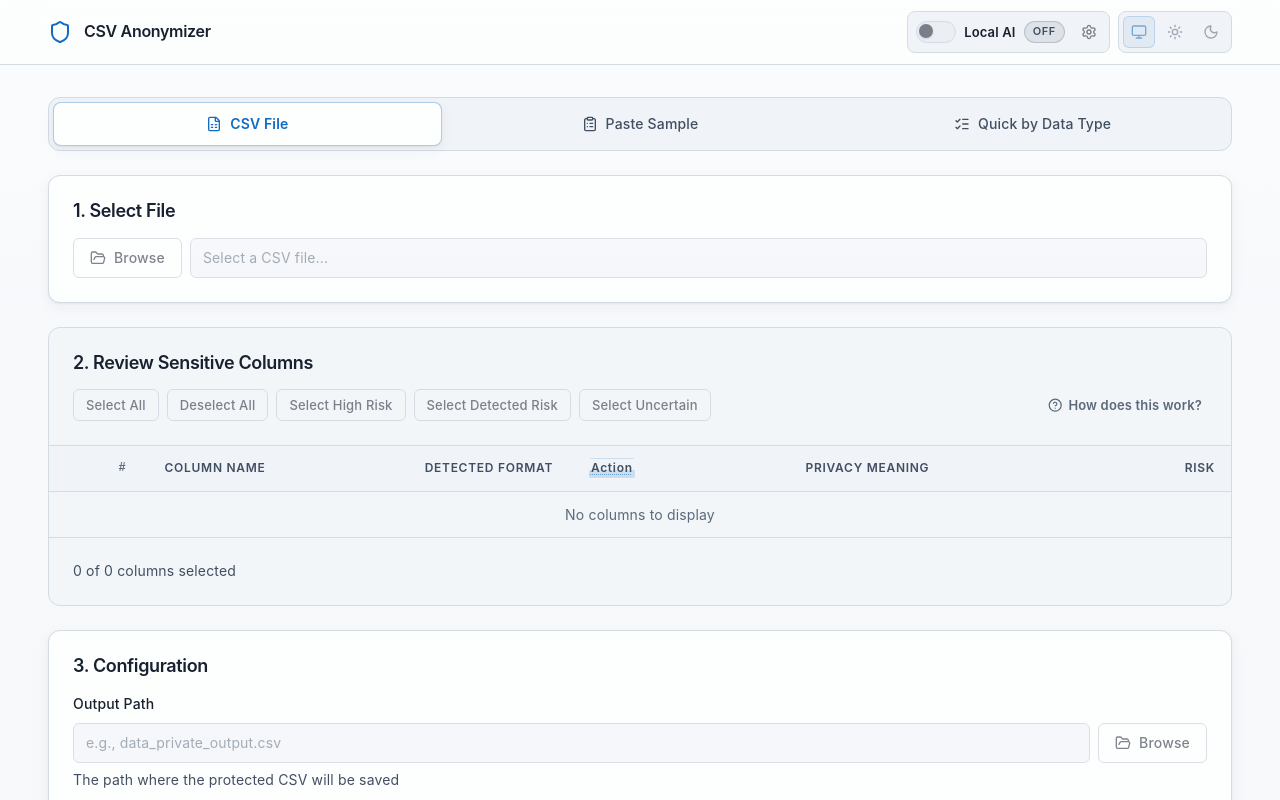
Test case: App input mode tabs › does not save default settings before the initial settings load completes
Step 1. Click the button with aria-label "browse for csv file" → {"x": 127, "y": 258}, box left=73, top=238, right=182, bottom=278
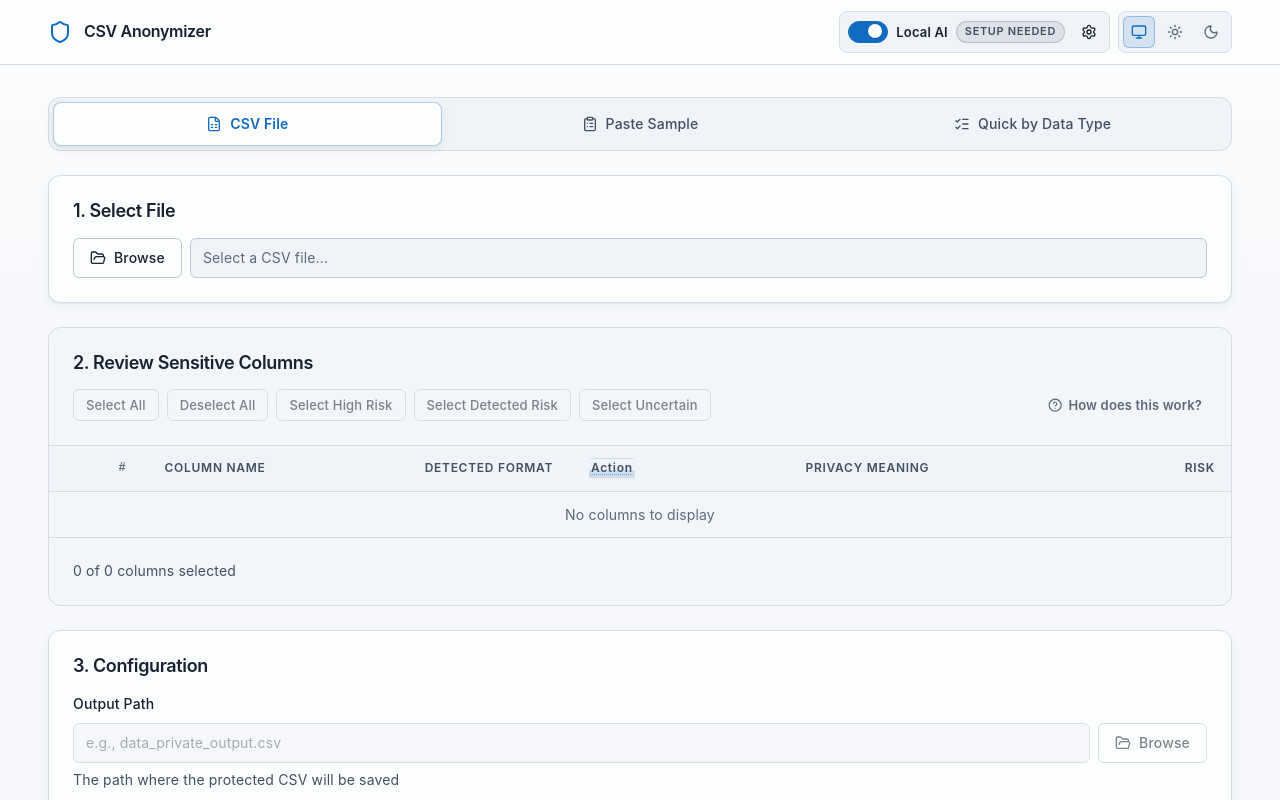
Expected: the button with aria-label "browse for csv file" is enabled, left=73, top=238, right=182, bottom=278
